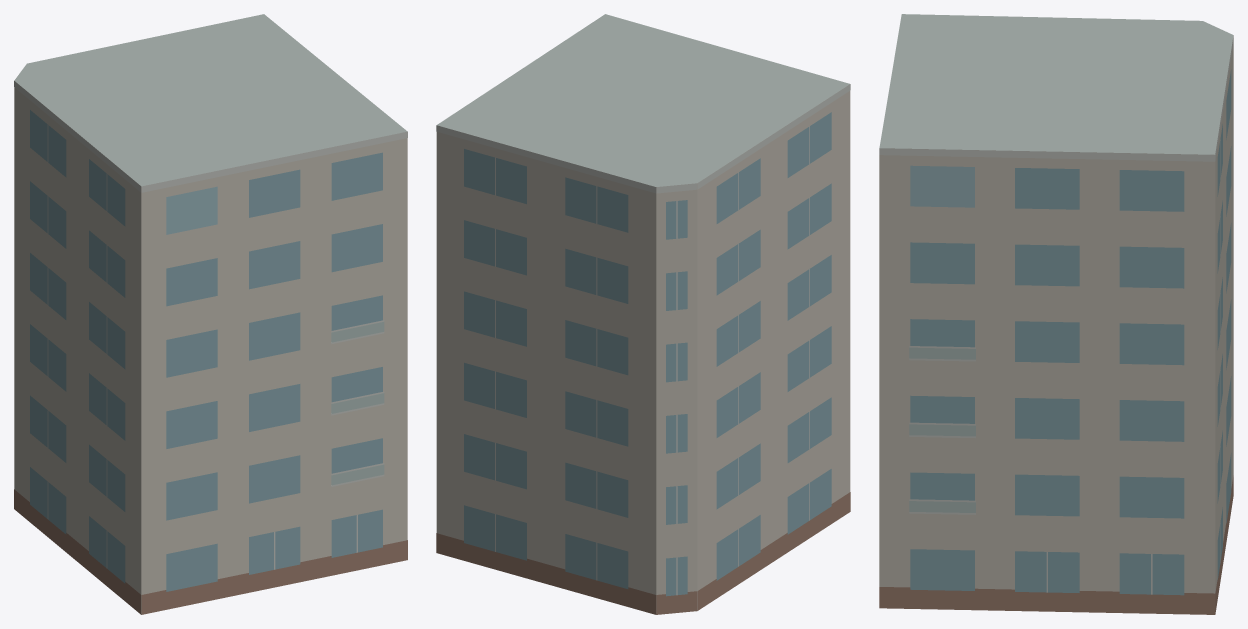
File: survey-upis-32736208.glb
The picture shows the model from 3 angles, left to right: view 1: azimuth 30°, elevation 25°; view 2: azimuth 150°, elevation 25°; view 3: azimuth 270°, elevation 25°; orthographic projection. The views are drawn at different scales.
Visible parts, largest first — view 1: survey-upis-32736208.tmp; view 2: survey-upis-32736208.tmp; view 3: survey-upis-32736208.tmp.
Part boxes in pixels (bbox=[...]): survey-upis-32736208.tmp: bbox=[14, 14, 407, 614]; survey-upis-32736208.tmp: bbox=[436, 14, 850, 614]; survey-upis-32736208.tmp: bbox=[879, 14, 1233, 614].
Bounding box in the file's own units: 10.64 × 16.2 × 11.31.
